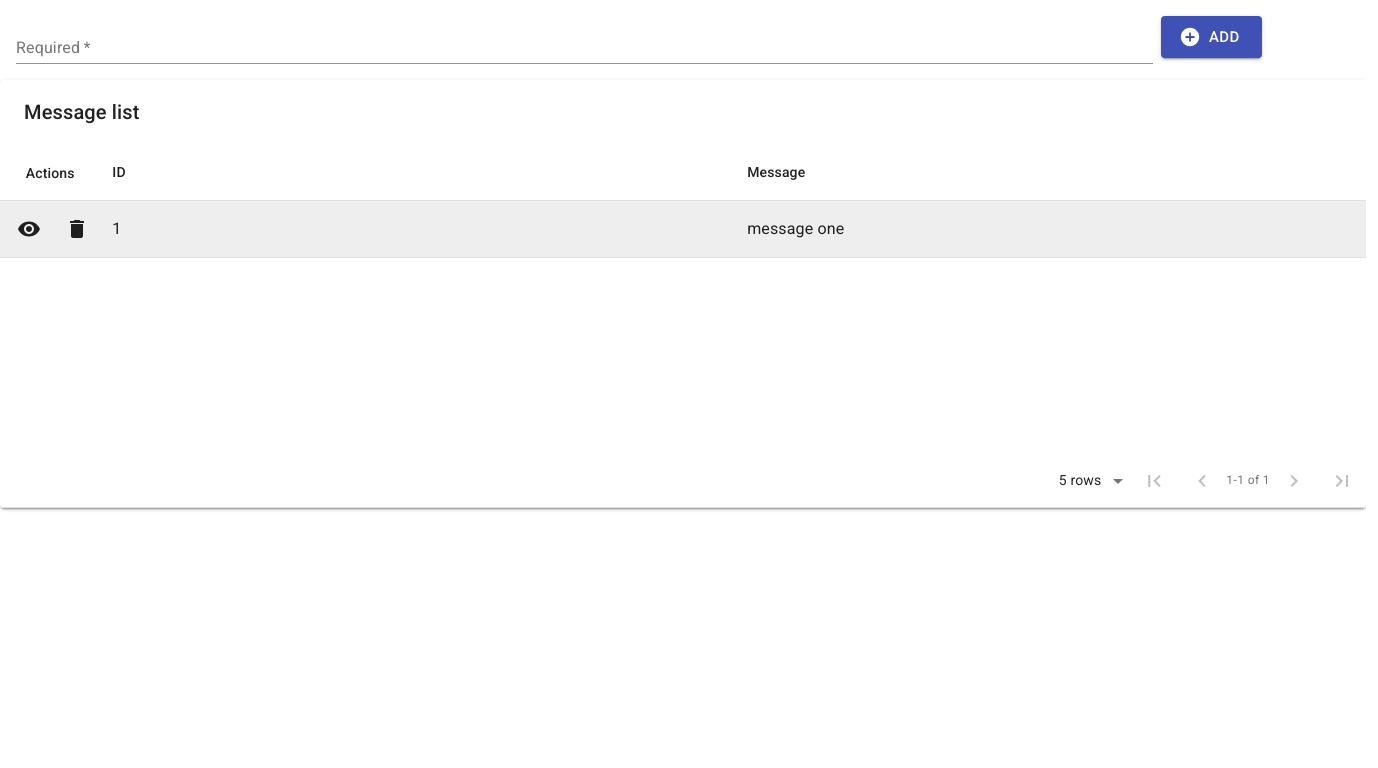
Test: MainBody test delete data › Should show notification when delete message error
Click the button titled "Delete Message": (77, 229) [53,205,101,253]
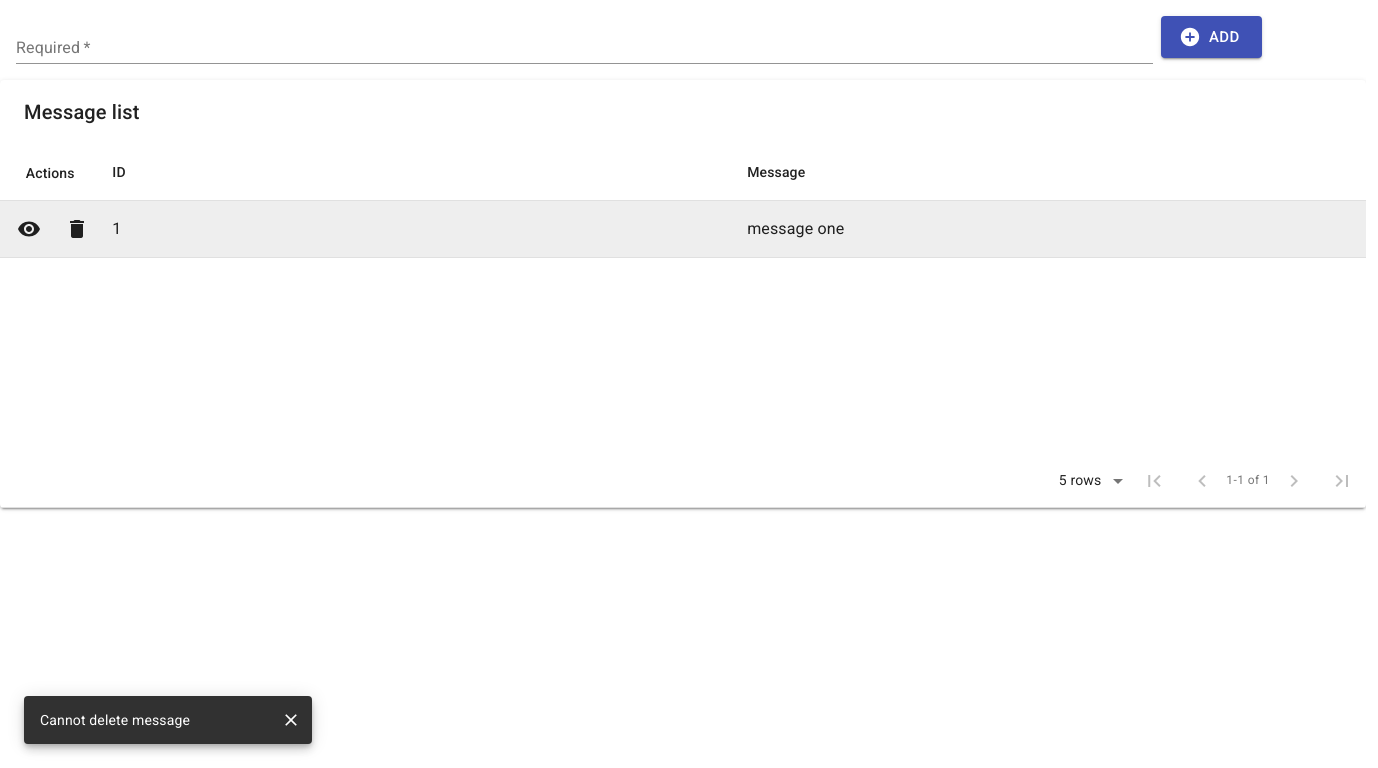
Check: the element with test id "test-notification-snackbar" reads "Cannot delete message", box [40,712,190,728]
